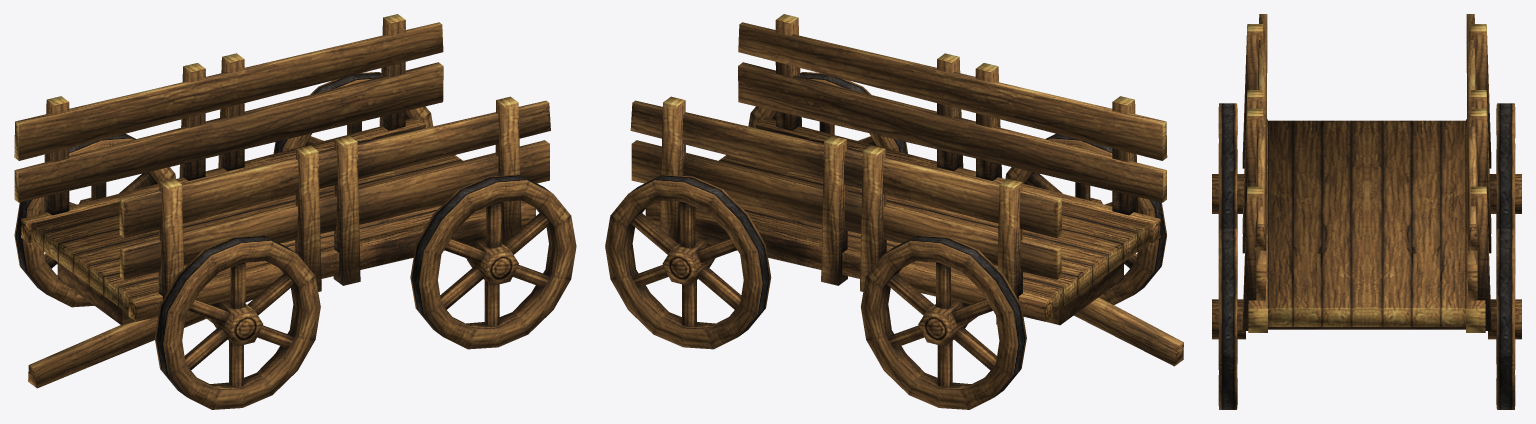
Rendered from cart4W.obj.
3 views of the same model, side by side, from view 1: azimuth 30°, elevation 25°; view 2: azimuth 150°, elevation 25°; view 3: azimuth 270°, elevation 25° (orthographic).
Visible parts, largest first — view 1: cart_4w_ad_Plane.005; view 2: cart_4w_ad_Plane.005; view 3: cart_4w_ad_Plane.005.
Part boxes in pixels (x1,y1,x2,y2): cart_4w_ad_Plane.005: (14, 14, 576, 409); cart_4w_ad_Plane.005: (605, 14, 1183, 409); cart_4w_ad_Plane.005: (1212, 14, 1521, 409).
Bounding box in the file's own units: 5.47 × 2.43 × 3.05.
